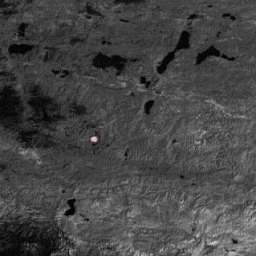Target: (88, 134, 100, 144)
